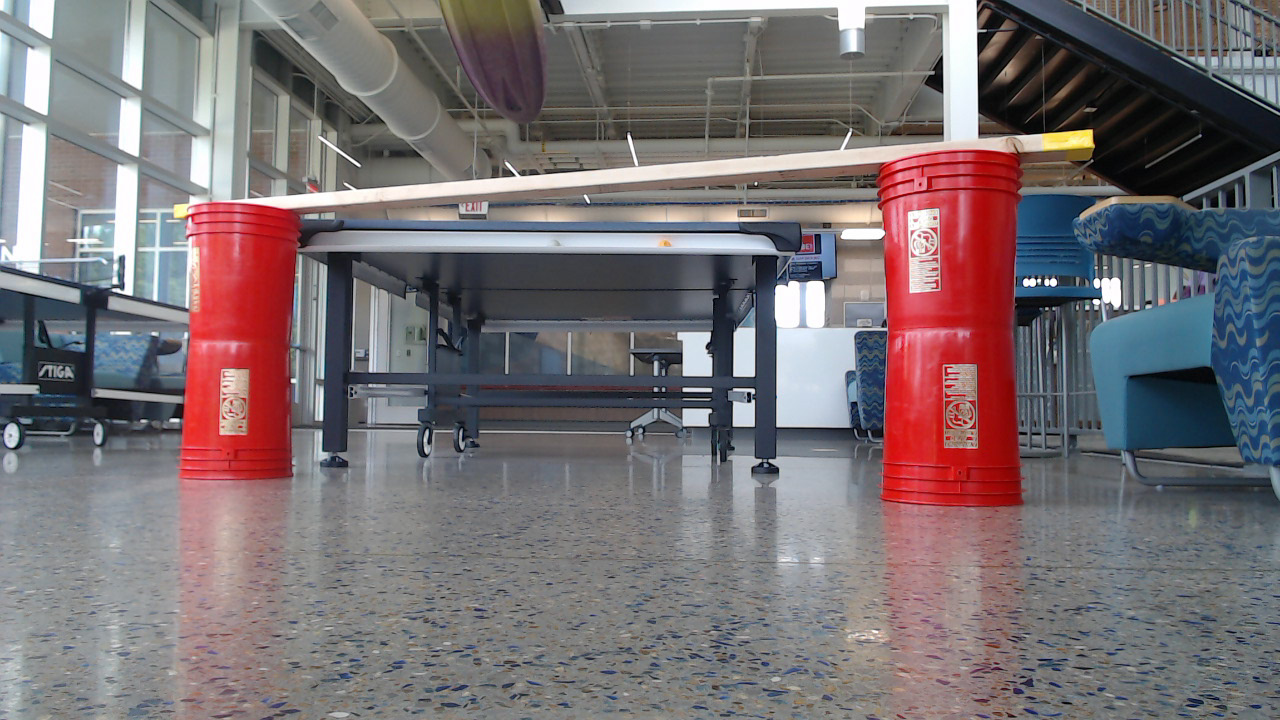blue_bucket: (177, 138, 1041, 517)
